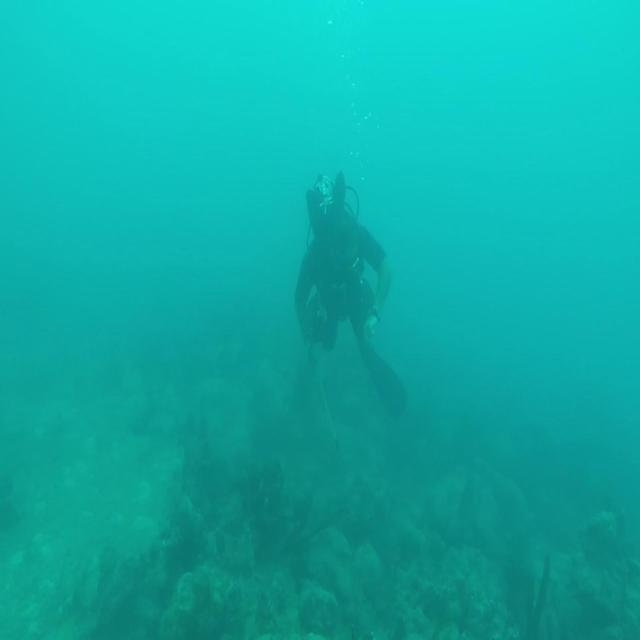human: (294, 170, 407, 420)
